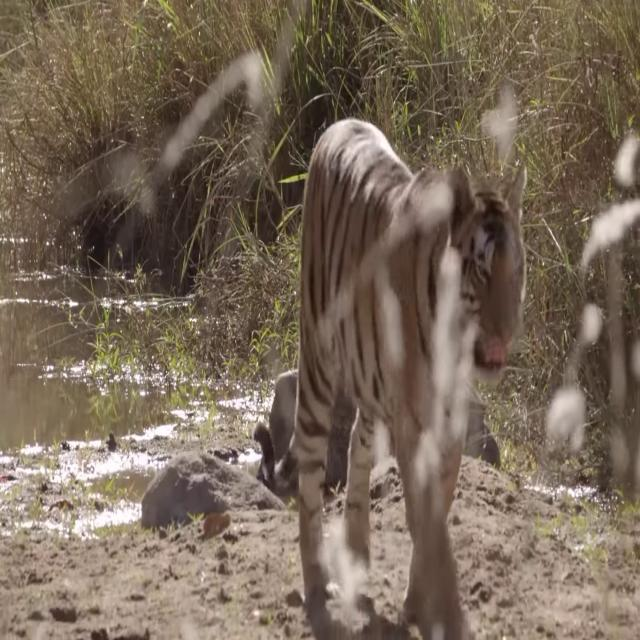tiger: (253, 117, 529, 640)
